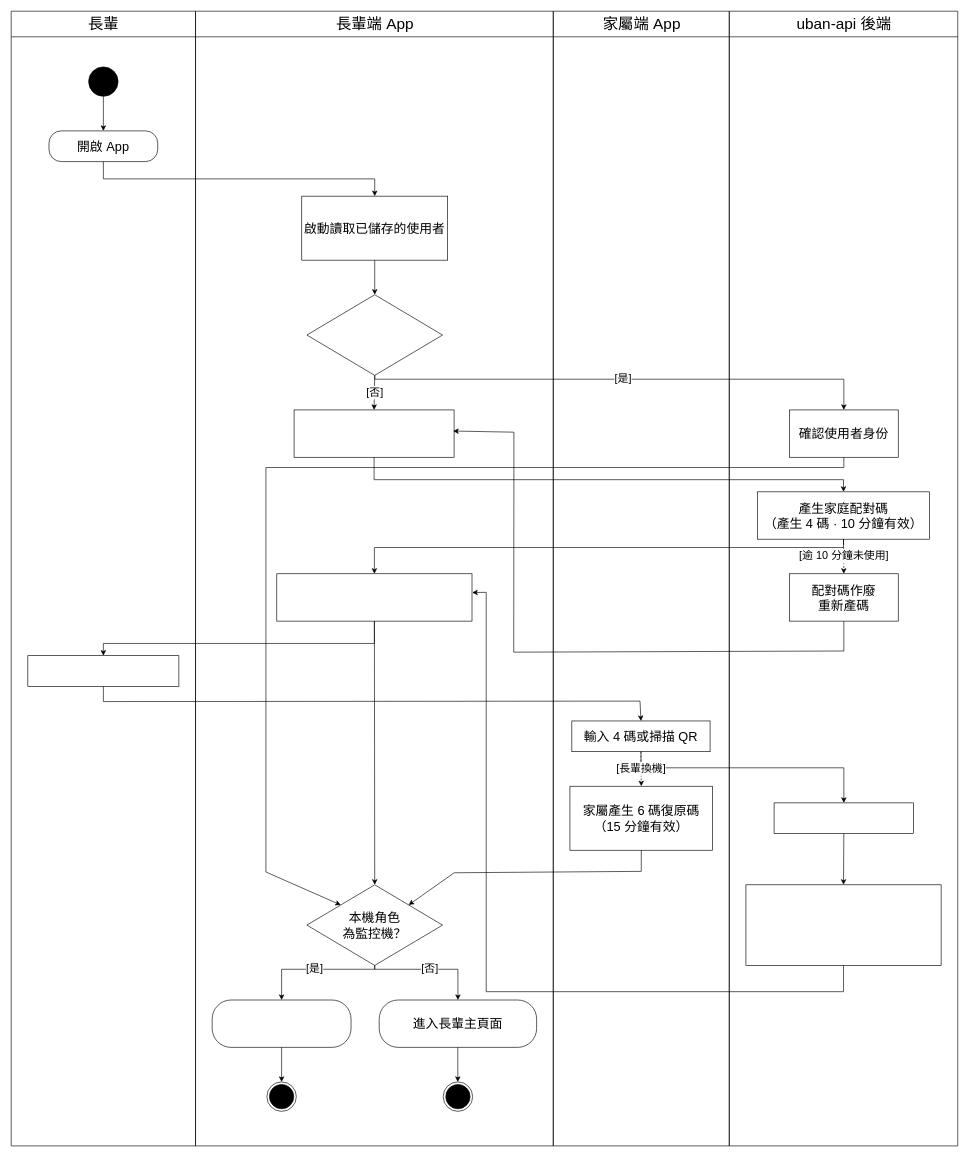
This 969x1157 diagram has some shape labels left out. Here are the shapes that lost their labels. From the top down, the box of each, then its label:
(306, 294, 443, 375): 本機是否已綁定 長輩帳號
(293, 409, 454, 457): 身份選擇頁 選擇『我是長者』
(276, 573, 472, 621): 顯示配對碼並等待綁定 定時查詢是否已完成配對
(27, 655, 179, 686): 出示 4 碼配對碼與 QR
(773, 802, 914, 834): 確認配對碼
(745, 884, 941, 965): 建立帳號與連結家庭關係
(212, 999, 351, 1047): 進入監控機模式
